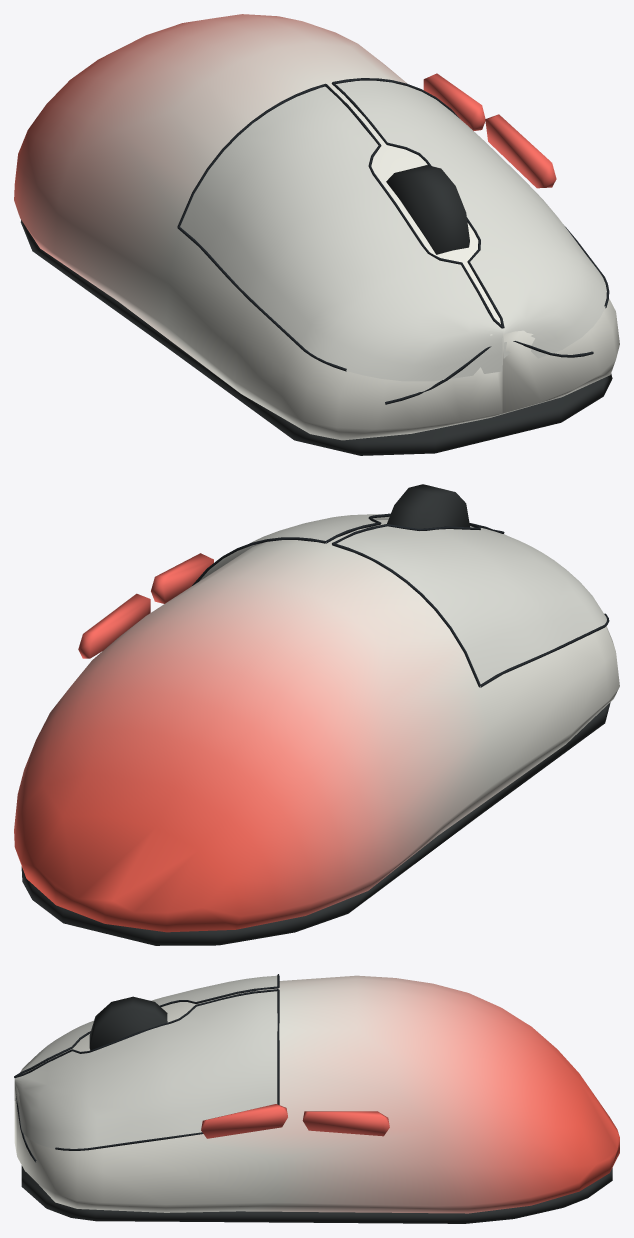
The picture shows the model from 3 angles, top to bottom: view 1: azimuth 30°, elevation 25°; view 2: azimuth 150°, elevation 25°; view 3: azimuth 270°, elevation 25°; orthographic projection. The views are drawn at different scales.
Visible parts, largest first — view 1: Mouse body GPX continuous rounded back, Left click panel, Scroll wheel, Left click outer seam, Curved capsule left side button; view 2: Mouse body GPX continuous rounded back, Left click panel, Scroll wheel, Curved capsule left side button, Left click outer seam; view 3: Mouse body GPX continuous rounded back, Left click panel, Scroll wheel, Curved capsule left side button, Left click outer seam.
Part boxes in pixels (x1,y1,x2,y2): Mouse body GPX continuous rounded back: [14, 14, 619, 440]; Left click panel: [180, 80, 606, 381]; Scroll wheel: [20, 165, 612, 455]; Left click outer seam: [177, 78, 609, 404]; Curved capsule left side button: [423, 73, 556, 188]; Mouse body GPX continuous rounded back: [14, 520, 619, 932]; Left click panel: [199, 514, 606, 687]; Scroll wheel: [21, 484, 610, 945]; Curved capsule left side button: [78, 553, 213, 658]; Left click outer seam: [192, 513, 609, 687]; Mouse body GPX continuous rounded back: [14, 975, 619, 1213]; Left click panel: [14, 975, 277, 1148]; Scroll wheel: [21, 996, 612, 1223]; Curved capsule left side button: [201, 1104, 389, 1138]; Left click outer seam: [14, 974, 279, 1162].
Bounding box in the file's own units: 0.0635 × 0.04 × 0.125.
